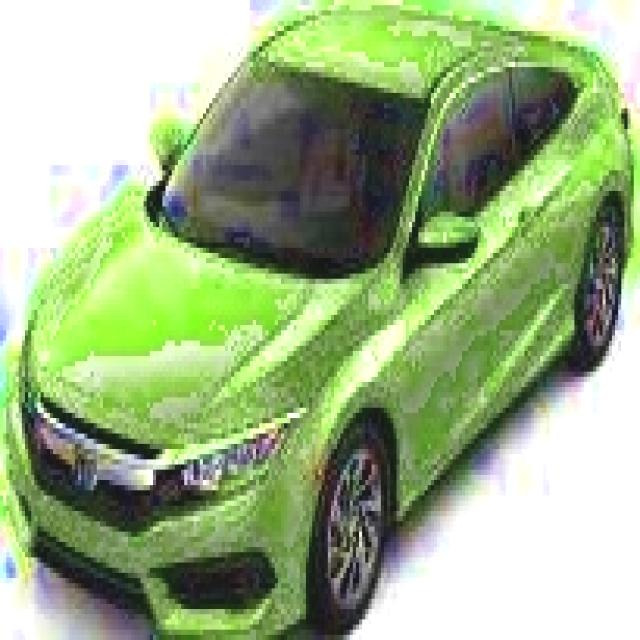green: (8, 15, 632, 640)
